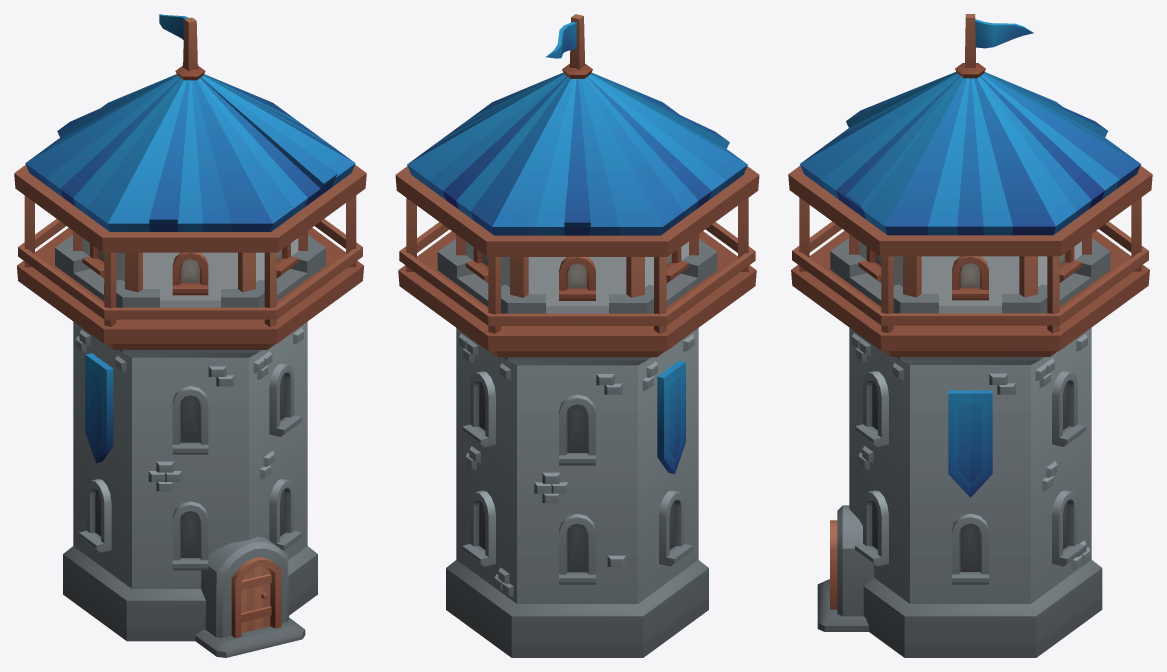
File: tower_B.glb
3 views of the same model, side by side, from view 1: azimuth 30°, elevation 25°; view 2: azimuth 150°, elevation 25°; view 3: azimuth 270°, elevation 25° (orthographic). The views are drawn at different scales.
Visible parts, largest first — view 1: building_tower_B_blue; view 2: building_tower_B_blue; view 3: building_tower_B_blue.
Boxes of the visible parts, left/top/right/bottom form: building_tower_B_blue: left=14, top=14, right=366, bottom=657; building_tower_B_blue: left=395, top=14, right=759, bottom=657; building_tower_B_blue: left=788, top=14, right=1152, bottom=657.
Bounding box in the file's own units: 1.2 × 2.49 × 1.38.
Materials: 1 (1 with a texture image).
